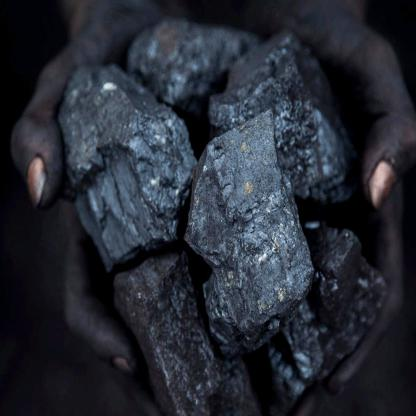Sedimentary_coal: (189, 113, 324, 366), (65, 58, 190, 273)
